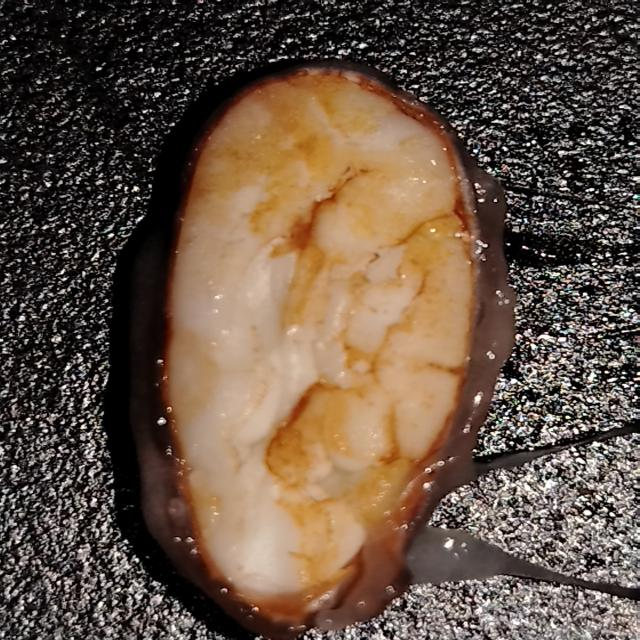Criollo: (165, 72, 482, 619)
